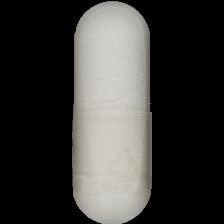13310-153: (0, 0, 224, 224)
